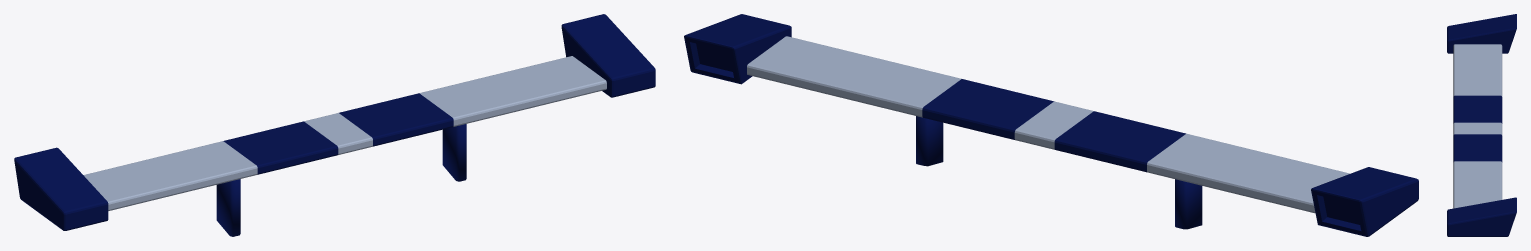
Rendered from spoiler3.fbx.
3 views of the same model, side by side, from view 1: azimuth 30°, elevation 25°; view 2: azimuth 150°, elevation 25°; view 3: azimuth 270°, elevation 25° (orthographic). The views are drawn at different scales.
Parts seen in each view (by area): view 1: spoiler3.001; view 2: spoiler3.001; view 3: spoiler3.001.
Part boxes in pixels (x1,y1,x2,y2): spoiler3.001: (14,14,655,236); spoiler3.001: (684,14,1418,236); spoiler3.001: (1447,14,1516,236).
Size of the model in its own units: 2.63 by 0.3971 by 0.391.
